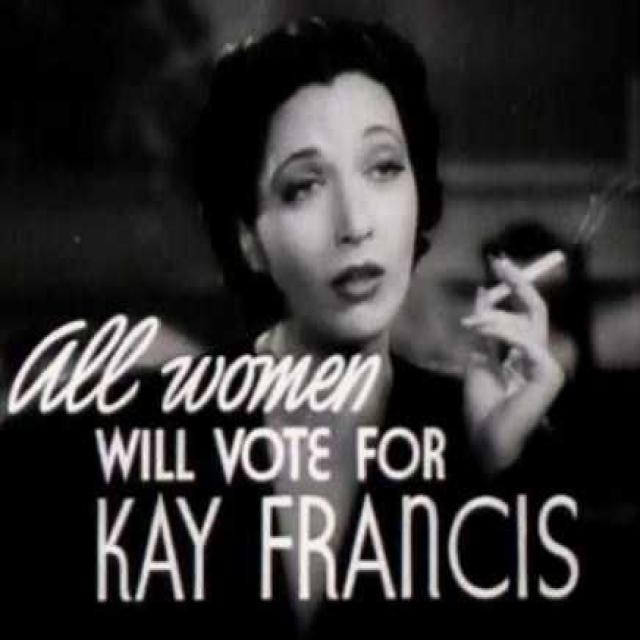Smooking: (472, 234, 582, 314)
